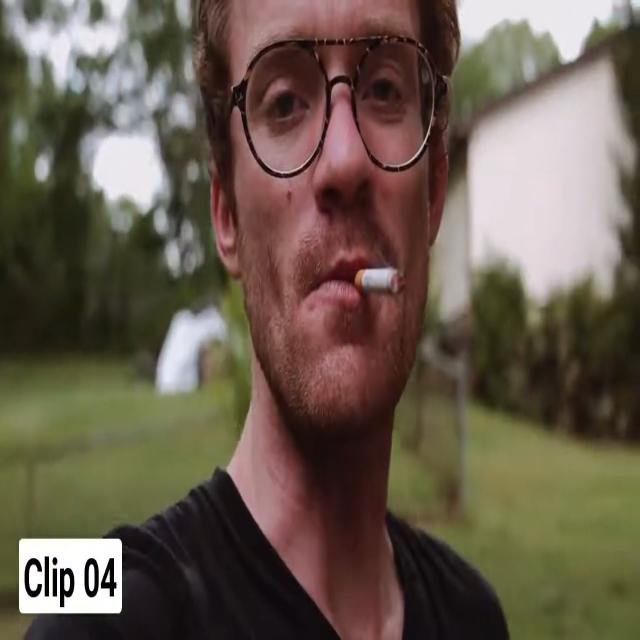Курение: (353, 260, 408, 304)
